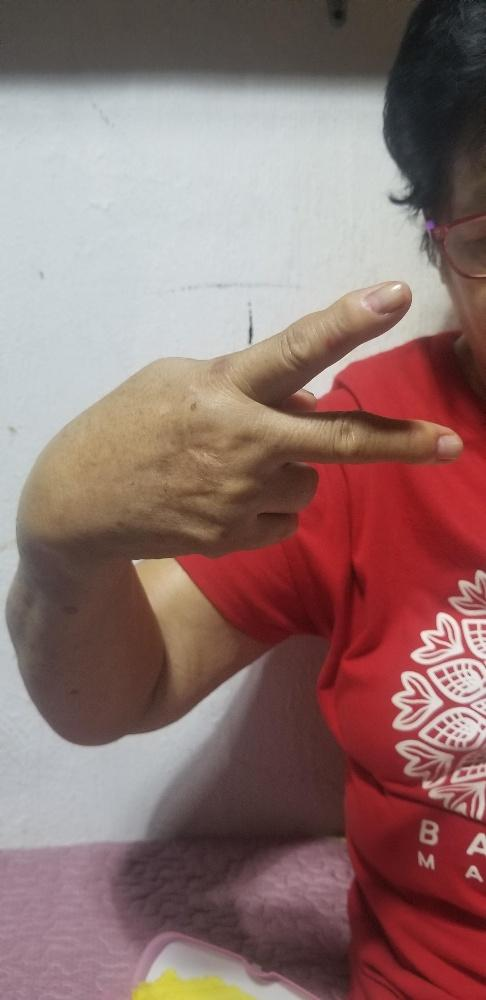k: (115, 280, 459, 559)
